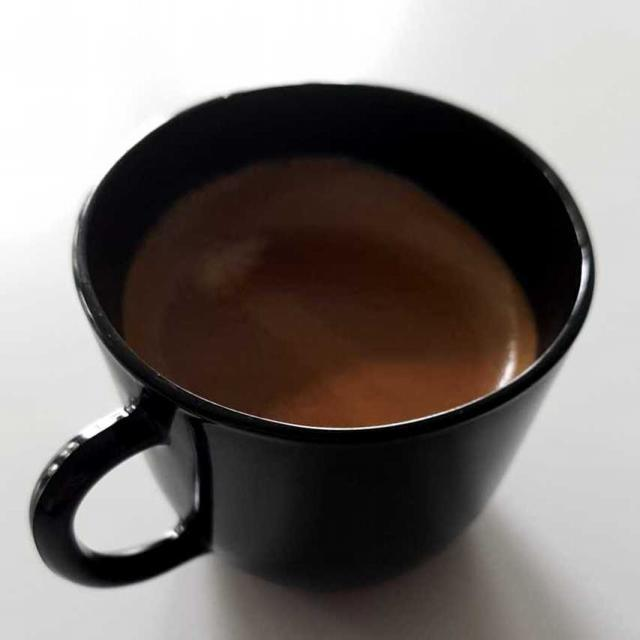coffee: (119, 153, 535, 421)
